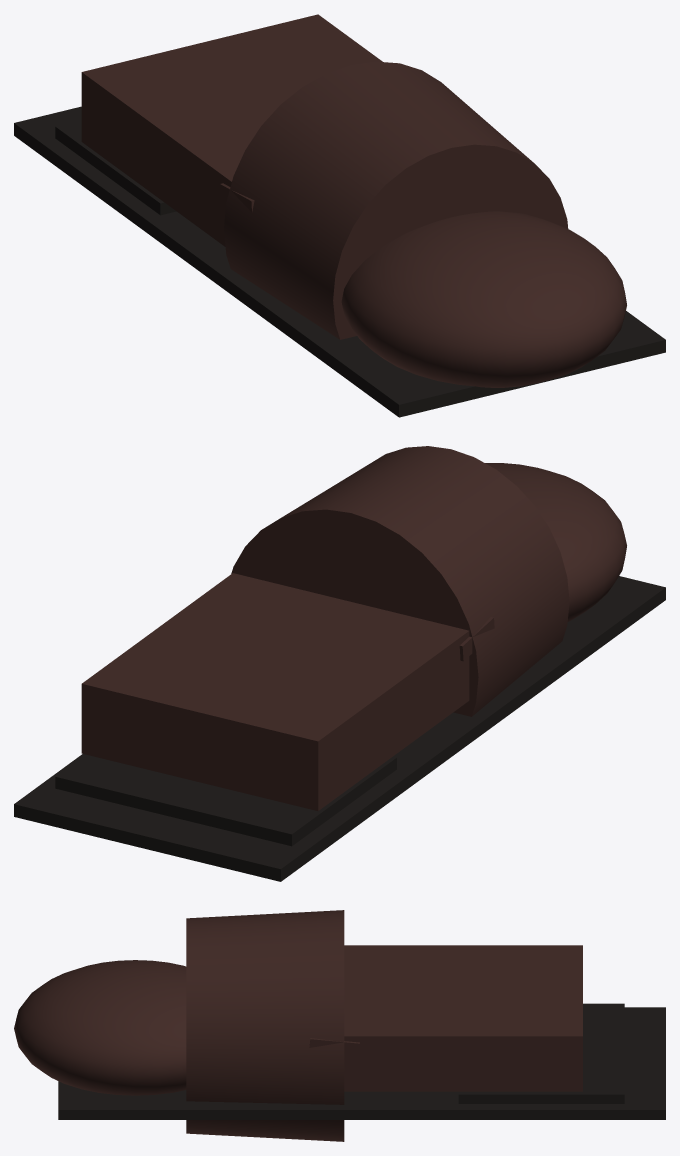
Rendered from loafer.glb.
The picture shows the model from 3 angles, top to bottom: view 1: azimuth 30°, elevation 25°; view 2: azimuth 150°, elevation 25°; view 3: azimuth 270°, elevation 25°; orthographic projection. The views are drawn at different scales.
Visible parts, largest first — view 1: Upper_Vamp, Upper_MocToe, Upper_Quarters, Outsole_Base, Outsole_Heel; view 2: Upper_Quarters, Upper_Vamp, Outsole_Base, Outsole_Heel, Upper_MocToe; view 3: Upper_Quarters, Upper_Vamp, Upper_MocToe, Outsole_Base, Outsole_Heel, Upper_PennySaddle.
Part boxes in pixels (x1=…): Upper_Vamp: x1=224, y1=61, x2=568, y2=339; Upper_MocToe: x1=341, y1=211, x2=626, y2=387; Upper_Quarters: x1=81, y1=14, x2=382, y2=246; Outsole_Base: x1=14, y1=106, x2=665, y2=417; Outsole_Heel: x1=55, y1=120, x2=176, y2=215; Upper_Quarters: x1=81, y1=573, x2=469, y2=810; Upper_Vamp: x1=231, y1=446, x2=569, y2=716; Outsole_Base: x1=14, y1=576, x2=665, y2=881; Outsole_Heel: x1=55, y1=754, x2=396, y2=846; Upper_MocToe: x1=485, y1=463, x2=626, y2=621; Upper_Quarters: x1=344, y1=945, x2=582, y2=1091; Upper_Vamp: x1=186, y1=910, x2=344, y2=1141; Upper_MocToe: x1=14, y1=960, x2=186, y2=1095; Outsole_Base: x1=58, y1=1007, x2=665, y2=1119; Outsole_Heel: x1=458, y1=1003, x2=624, y2=1103; Upper_PennySaddle: x1=309, y1=1038, x2=359, y2=1055.
Size of the model in its own units: 0.88 by 0.84 by 2.36.
